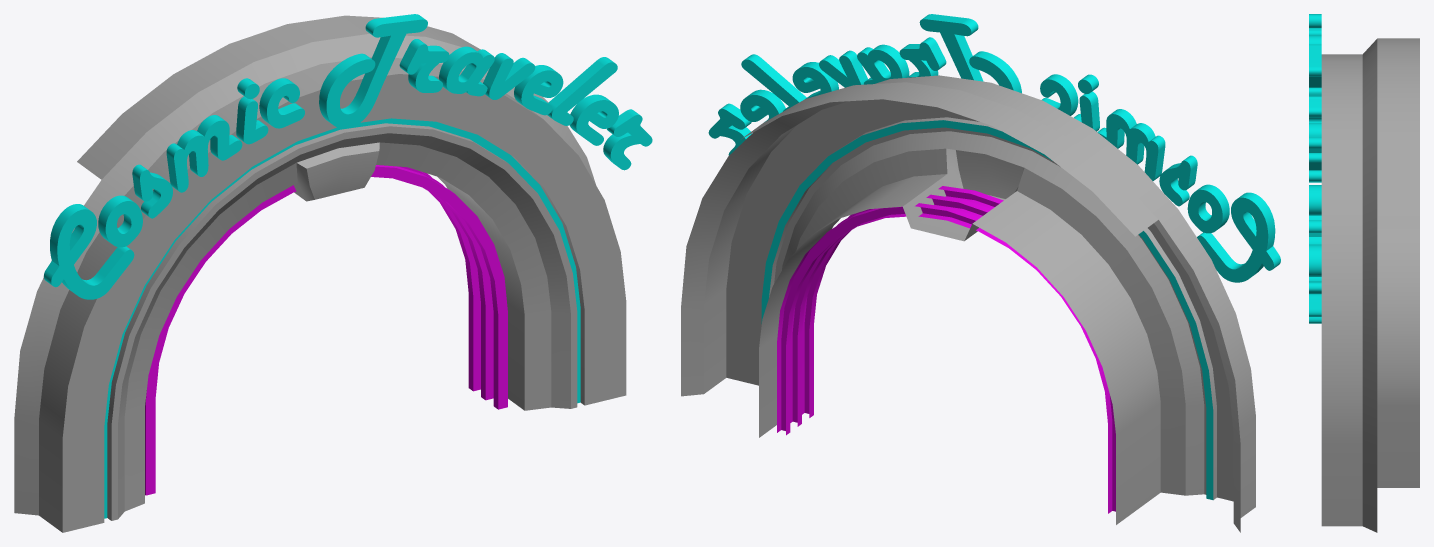
The model's file is sm_entrance.fbx.
The picture shows the model from 3 angles, left to right: view 1: azimuth 30°, elevation 25°; view 2: azimuth 150°, elevation 25°; view 3: azimuth 270°, elevation 25°; orthographic projection. The views are drawn at different scales.
Parts seen in each view (by area): view 1: sm_entrance; view 2: sm_entrance; view 3: sm_entrance.
Part boxes in pixels (bbox=[...]): sm_entrance: bbox=[14, 14, 652, 532]; sm_entrance: bbox=[681, 14, 1280, 532]; sm_entrance: bbox=[1309, 14, 1419, 532].
Size of the model in its own units: 91.98 by 64 by 17.13.
